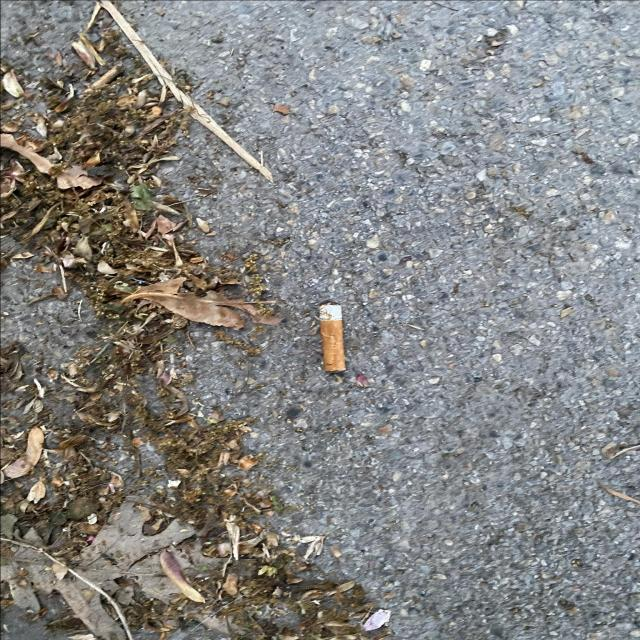other waste: (318, 299, 346, 372)
